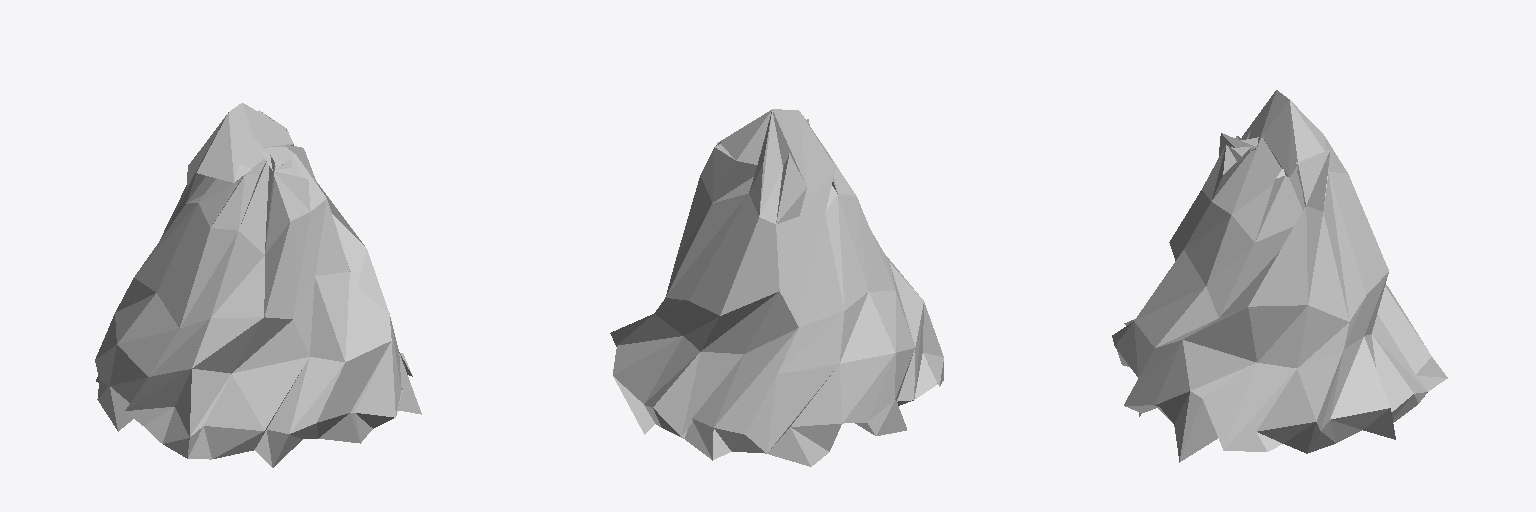
File: lime sauced.obj
3 views of the same model, side by side, from view 1: azimuth 30°, elevation 25°; view 2: azimuth 150°, elevation 25°; view 3: azimuth 270°, elevation 25° (orthographic).
Visible parts, largest first — view 1: lime_sauced; view 2: lime_sauced; view 3: lime_sauced.
Boxes of the visible parts, x1,y1,x2,y2 form: lime_sauced: [95, 103, 421, 467]; lime_sauced: [610, 109, 943, 466]; lime_sauced: [1112, 90, 1447, 462].
Size of the model in its own units: 0.0925 by 0.0953 by 0.0953.